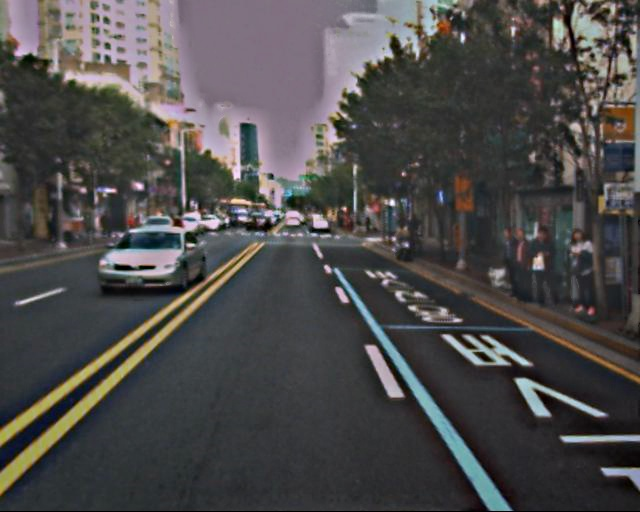person: (557, 227, 598, 317), (522, 225, 562, 306), (505, 226, 537, 304), (492, 226, 524, 295)
